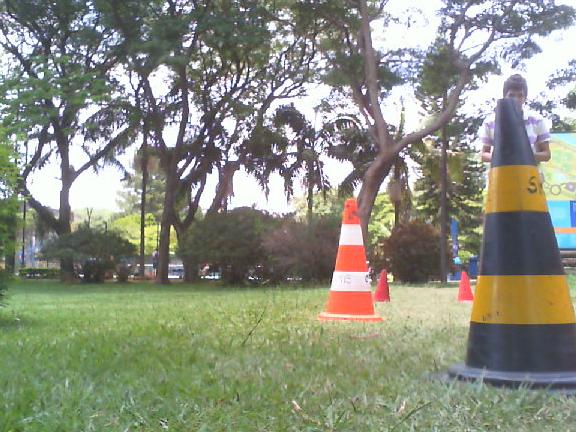0 cone: (443, 96, 576, 379), (319, 197, 385, 322), (374, 268, 391, 302), (455, 269, 473, 301)
